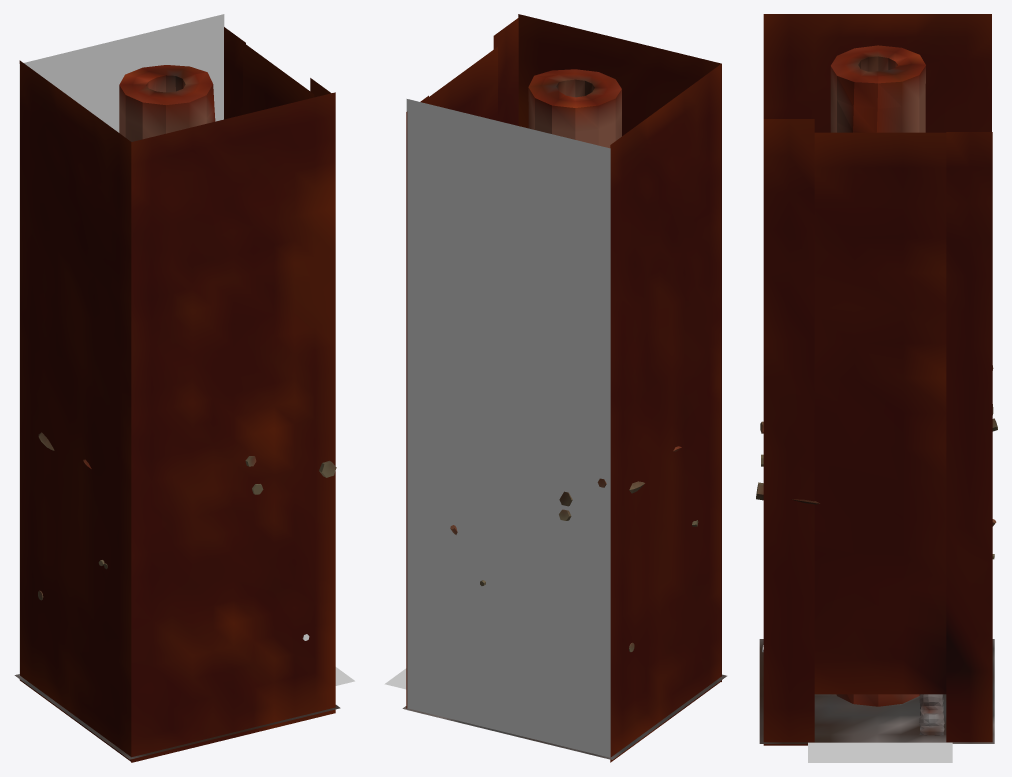
The model's file is Générateur(6).fbx.
3 renders of one model, left to right at view 1: azimuth 30°, elevation 25°; view 2: azimuth 150°, elevation 25°; view 3: azimuth 270°, elevation 25°, orthographic. The views are drawn at different scales.
Visible parts, largest first — view 1: Plan 5, Plan 2, Plan 4, Cylindre, Plan 8, Plan 7, Plan 1, Tube; view 2: Plan 4, Plan 2, Plan 5, Cylindre, Plan 8, Plan 6, Plan 7, Plan 1, Tube; view 3: Plan 8, Plan 6, Plan 7, Plan 2, Cylindre, Plan 1, Plan, Boîte, Tube.
Boxes of the visible parts, box(x1,y1,x2,y2) form: Plan 5: box(131, 92, 335, 762); Plan 2: box(19, 60, 131, 761); Plan 4: box(19, 14, 224, 675); Cylindre: box(119, 65, 215, 141); Plan 8: box(243, 42, 314, 114); Plan 7: box(224, 27, 245, 119); Plan 1: box(14, 674, 340, 759); Tube: box(38, 432, 336, 600); Plan 4: box(406, 99, 610, 759); Plan 2: box(610, 64, 721, 762); Plan 5: box(518, 14, 721, 681); Cylindre: box(528, 69, 621, 148); Plan 8: box(427, 47, 497, 120); Plan 6: box(493, 18, 518, 125); Plan 7: box(406, 95, 428, 708); Plan 1: box(402, 674, 726, 759); Tube: box(450, 446, 698, 651); Plan 8: box(814, 132, 946, 694); Plan 6: box(763, 119, 814, 745); Plan 7: box(946, 132, 992, 742); Plan 2: box(763, 14, 991, 132); Cylindre: box(830, 45, 925, 706); Plan 1: box(759, 639, 994, 743); Plan: box(808, 742, 952, 762); Boîte: box(919, 694, 944, 735); Tube: box(756, 365, 997, 559).
Bounding box in the file's own units: 17.48 × 41.52 × 14.39.
